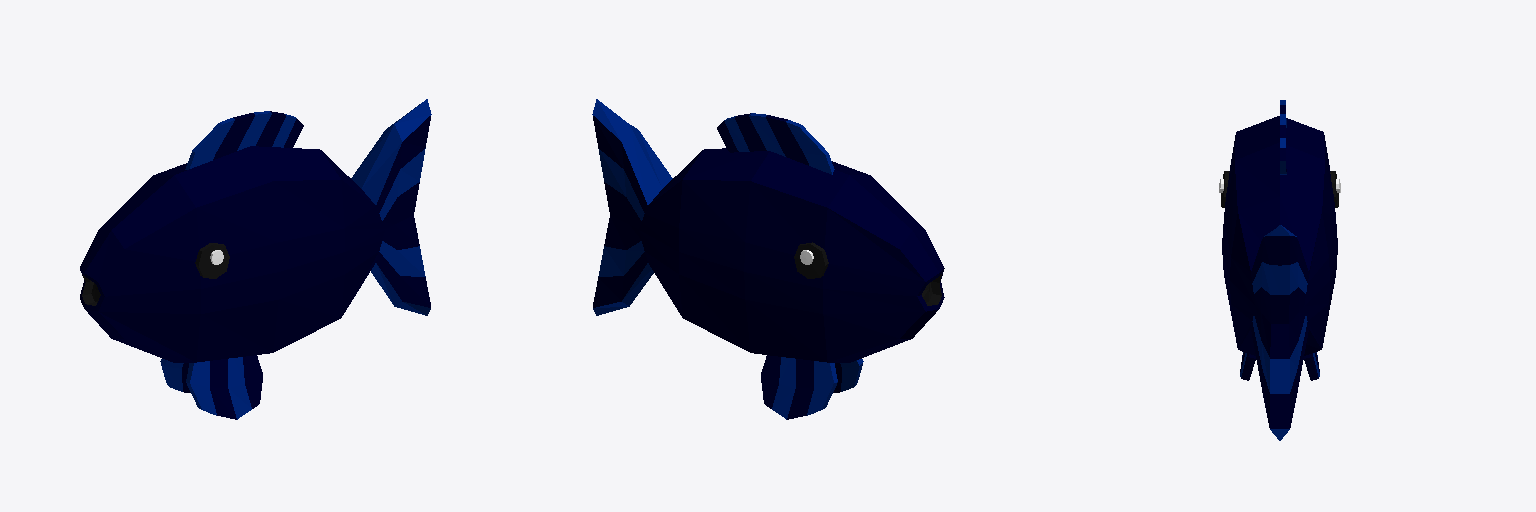
Rendered from fish.obj.
The picture shows the model from 3 angles: view 1: azimuth 30°, elevation 25°; view 2: azimuth 150°, elevation 25°; view 3: azimuth 270°, elevation 25°; orthographic projection.
Parts seen in each view (by area): view 1: fish_01_Cube.003; view 2: fish_01_Cube.003; view 3: fish_01_Cube.003.
Boxes of the visible parts, <box> form: fish_01_Cube.003: <box>80,99,431,419</box>; fish_01_Cube.003: <box>592,99,944,419</box>; fish_01_Cube.003: <box>1219,100,1340,440</box>.
Bounding box in the file's own units: 1.56 × 1.23 × 0.4802.